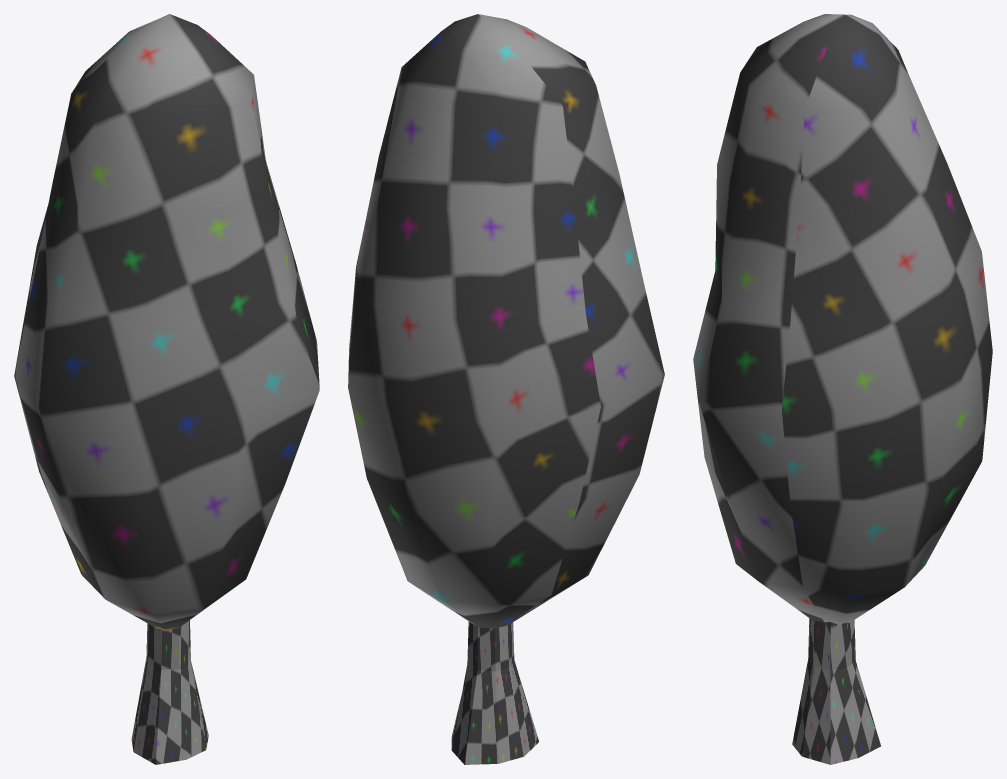
Rendered from Tree2.fbx.
3 renders of one model, left to right at view 1: azimuth 30°, elevation 25°; view 2: azimuth 150°, elevation 25°; view 3: azimuth 270°, elevation 25°, orthographic.
Visible parts, largest first — view 1: tree2; view 2: tree2; view 3: tree2.
Part boxes in pixels (<box>): tree2: <box>14,14,319,764</box>; tree2: <box>348,14,664,764</box>; tree2: <box>693,14,992,764</box>.
Size of the model in its own units: 151 by 382 by 141.
